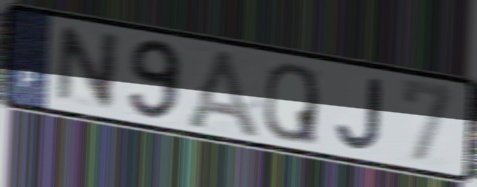7: (398, 77, 459, 169)
9: (126, 36, 186, 123)
A: (181, 47, 265, 143)
J: (334, 75, 385, 153)
N: (52, 24, 124, 113)
Q: (261, 61, 320, 148)
